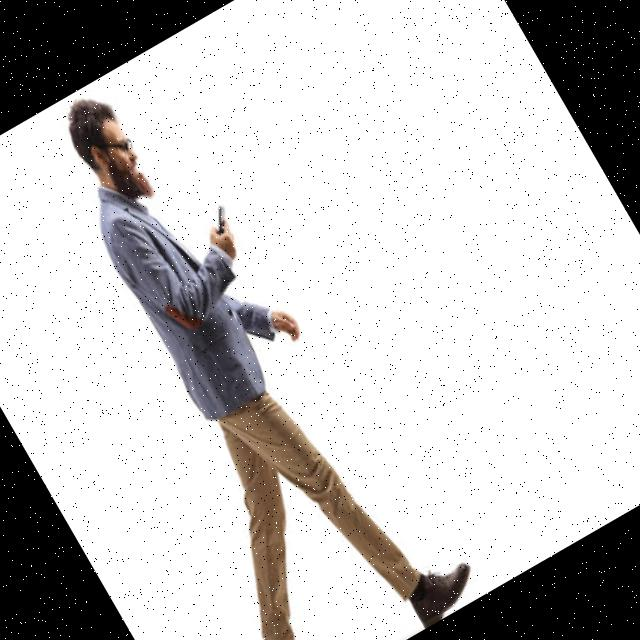Person: (0, 48, 486, 640)
